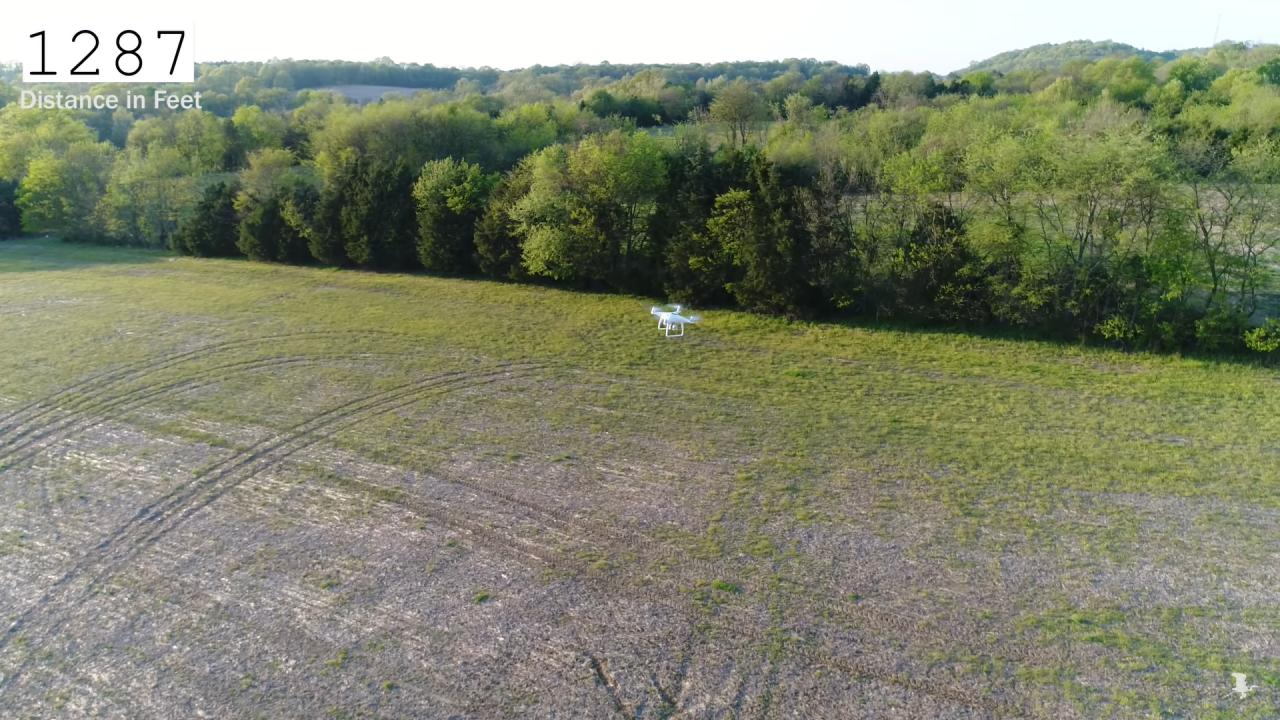Drone: (640, 297, 710, 343)
